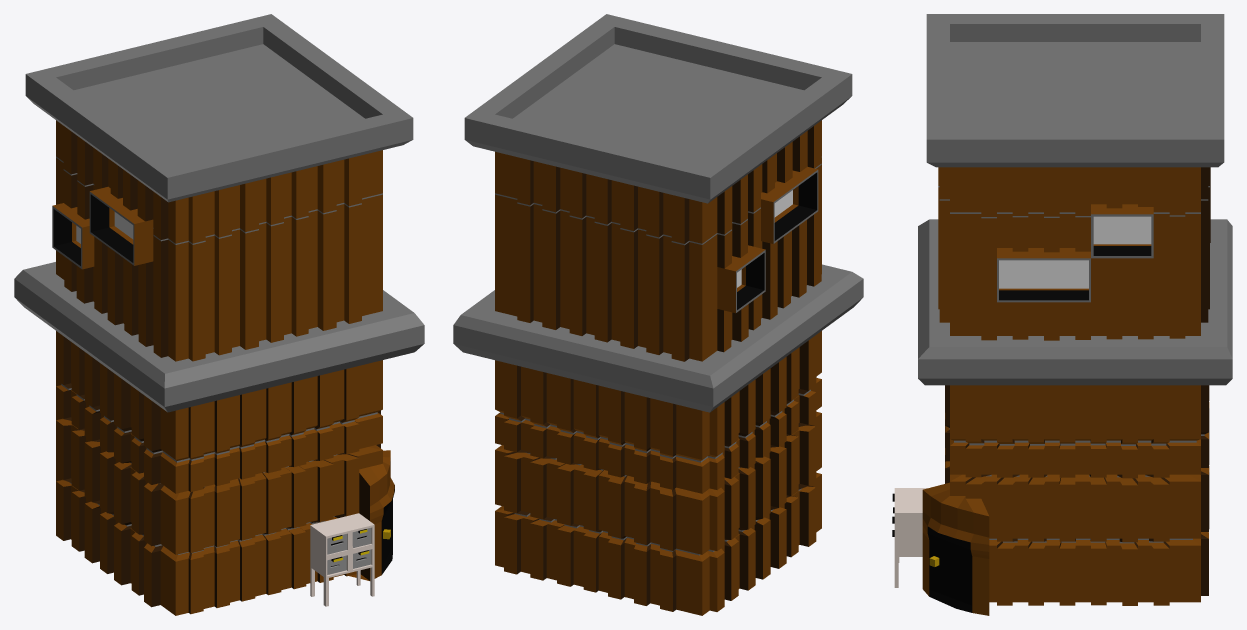
The model's file is huis_1.fbx.
The picture shows the model from 3 angles, left to right: view 1: azimuth 30°, elevation 25°; view 2: azimuth 150°, elevation 25°; view 3: azimuth 270°, elevation 25°; orthographic projection. The views are drawn at different scales.
Parts seen in each view (by area): view 1: Cube, Cube.001; view 2: Cube; view 3: Cube, Cube.001.
Boxes of the visible parts, x1,y1,x2,y2 form: Cube: (14, 14, 424, 615); Cube.001: (310, 513, 374, 606); Cube: (453, 14, 863, 615); Cube: (918, 14, 1232, 615); Cube.001: (892, 488, 927, 587).
Size of the model in its own units: 2490 by 4150 by 2693.
